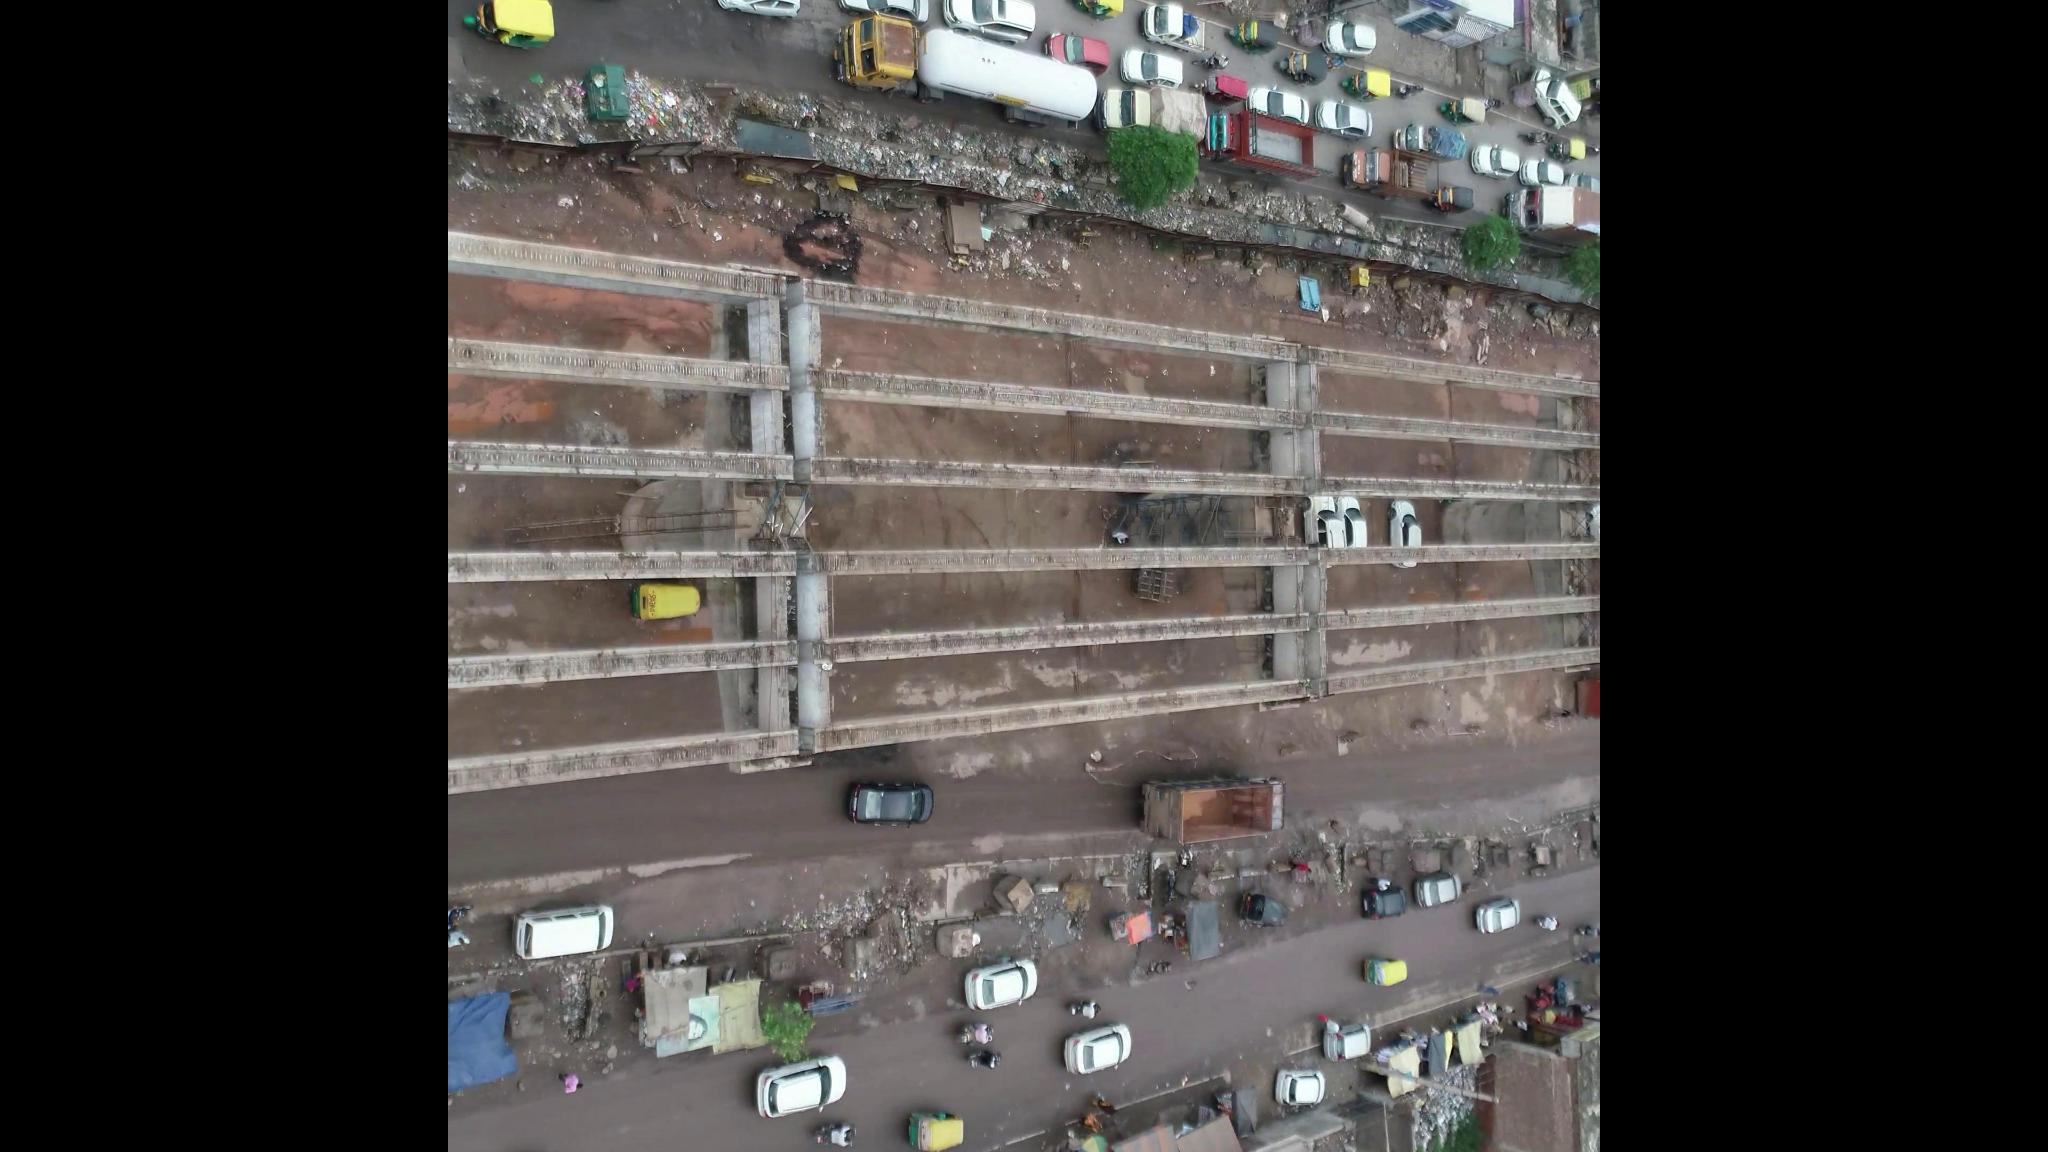Road_side_garbage: (836, 110, 1056, 191)
